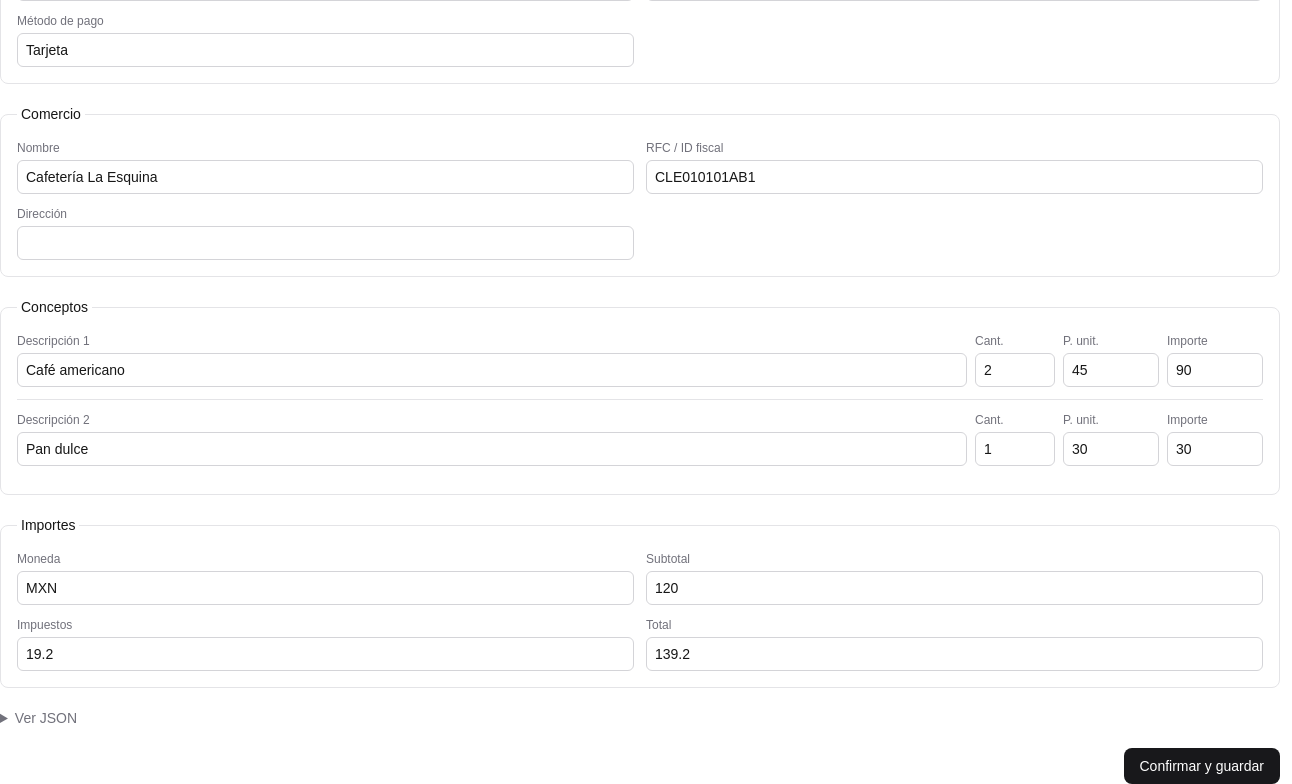
DocumentForm › confirmar › editar después de guardar quita el aviso de guardado
(page scrolled)
Click the button "Confirmar y guardar". click: (1202, 766)
box: [1124,748,1280,783]
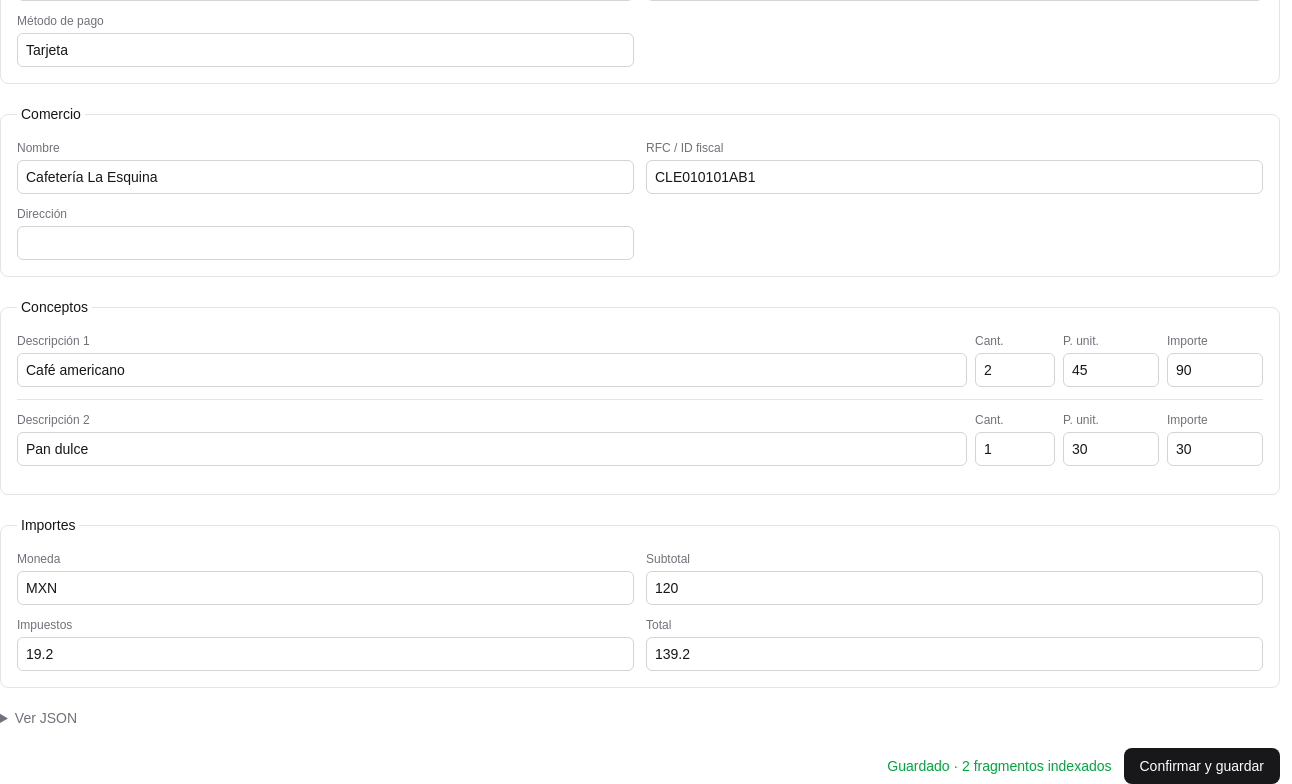
Now the text "Guardado · 2 fragmentos indexados" is shown, box [887,758,1112,774]
Type "!" into the field labelled "Método de pago". click: (326, 50)
box: [17,33,634,67]
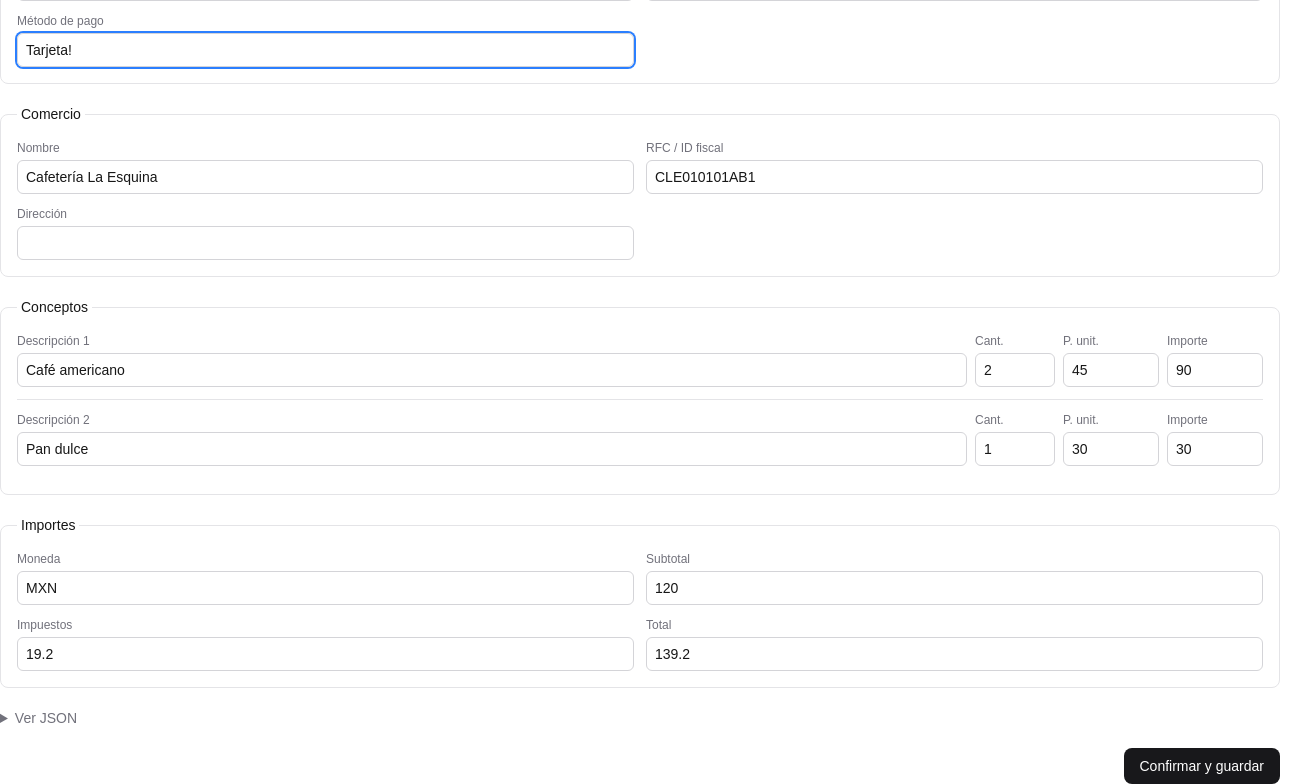
Now the text "Guardado" is gone
